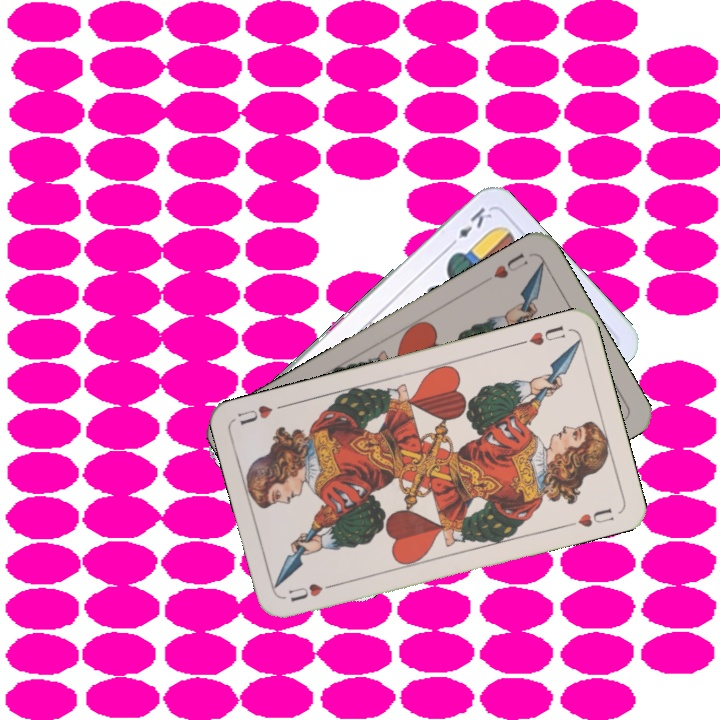EK: (444, 203, 495, 251)
HU: (514, 321, 568, 348), (284, 579, 340, 605), (489, 249, 531, 281)
